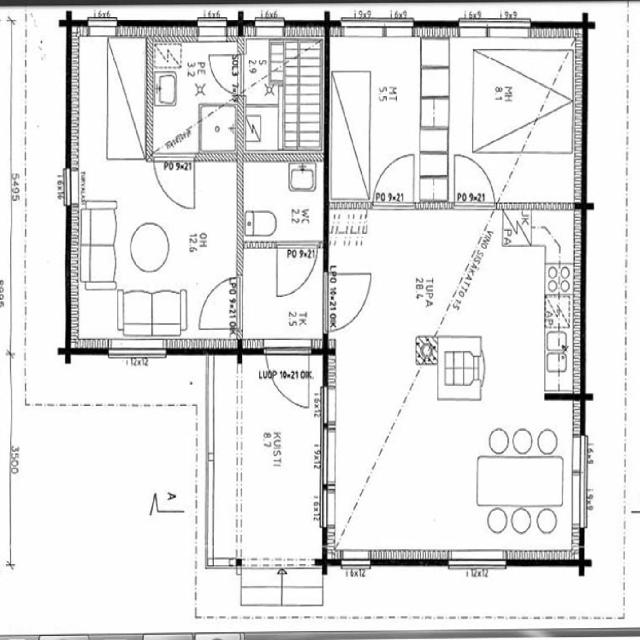door: (324, 270, 371, 335), (265, 346, 313, 407), (276, 240, 322, 302), (153, 150, 197, 211), (373, 147, 417, 207), (451, 149, 496, 206)
window: (336, 11, 418, 41), (454, 15, 537, 42), (571, 429, 591, 535), (104, 338, 169, 364), (444, 552, 508, 571), (319, 266, 332, 336), (194, 14, 232, 36), (234, 268, 247, 332), (85, 13, 122, 35), (250, 14, 288, 34), (62, 163, 76, 209)
zone: (328, 28, 426, 207), (459, 42, 575, 157), (241, 161, 323, 243), (150, 37, 240, 110), (196, 275, 241, 334), (199, 103, 238, 157), (242, 36, 272, 104)
